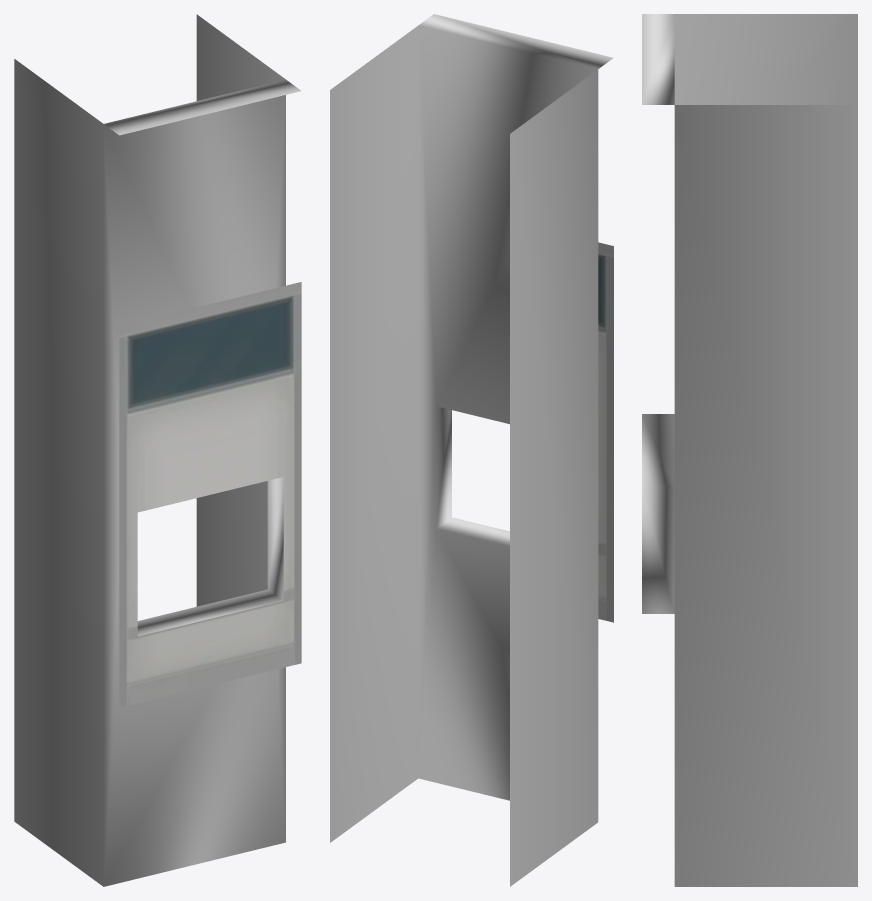
Rendered from window-wall-square-2-m.glb.
3 renders of one model, left to right at view 1: azimuth 30°, elevation 25°; view 2: azimuth 150°, elevation 25°; view 3: azimuth 270°, elevation 25°, orthographic. The views are drawn at different scales.
Visible parts, largest first — view 1: RoomSpWallSimplePanel00__RoomSpWallSimplePanel00WindowWallSq (×2); view 2: RoomSpWallSimplePanel00__RoomSpWallSimplePanel00WindowWallSq (×2); view 3: RoomSpWallSimplePanel00__RoomSpWallSimplePanel00WindowWallSq.
Boxes of the visible parts, x1,y1,x2,y2 form: RoomSpWallSimplePanel00__RoomSpWallSimplePanel00WindowWallSq (×2): [14, 14, 301, 886]; RoomSpWallSimplePanel00__RoomSpWallSimplePanel00WindowWallSq (×2): [330, 14, 613, 886]; RoomSpWallSimplePanel00__RoomSpWallSimplePanel00WindowWallSq: [642, 14, 857, 886].
Bounding box in the file's own units: 20 × 80 × 20.
2 materials, 1 textured.
